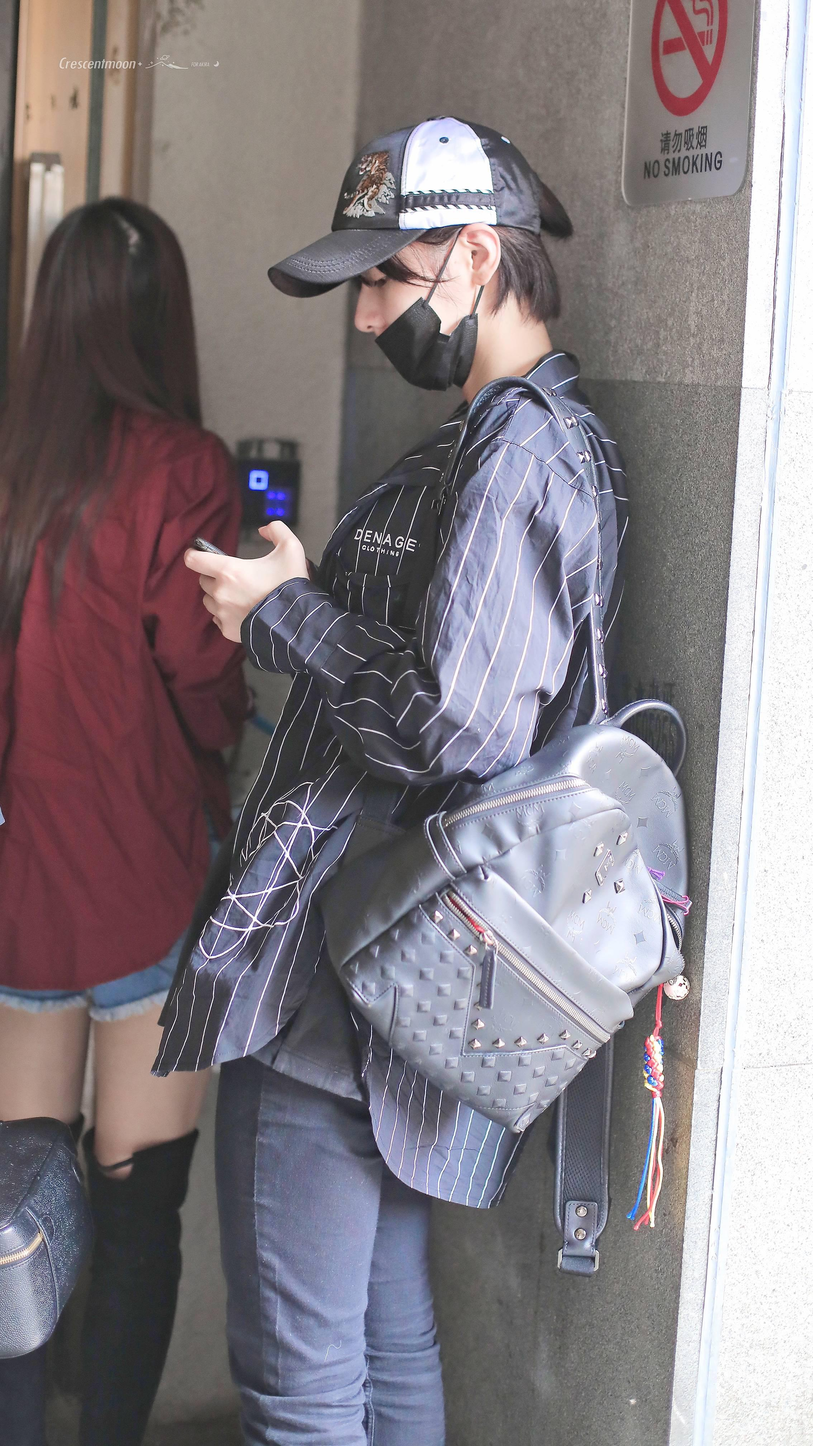WRONG: (355, 238, 465, 392)
